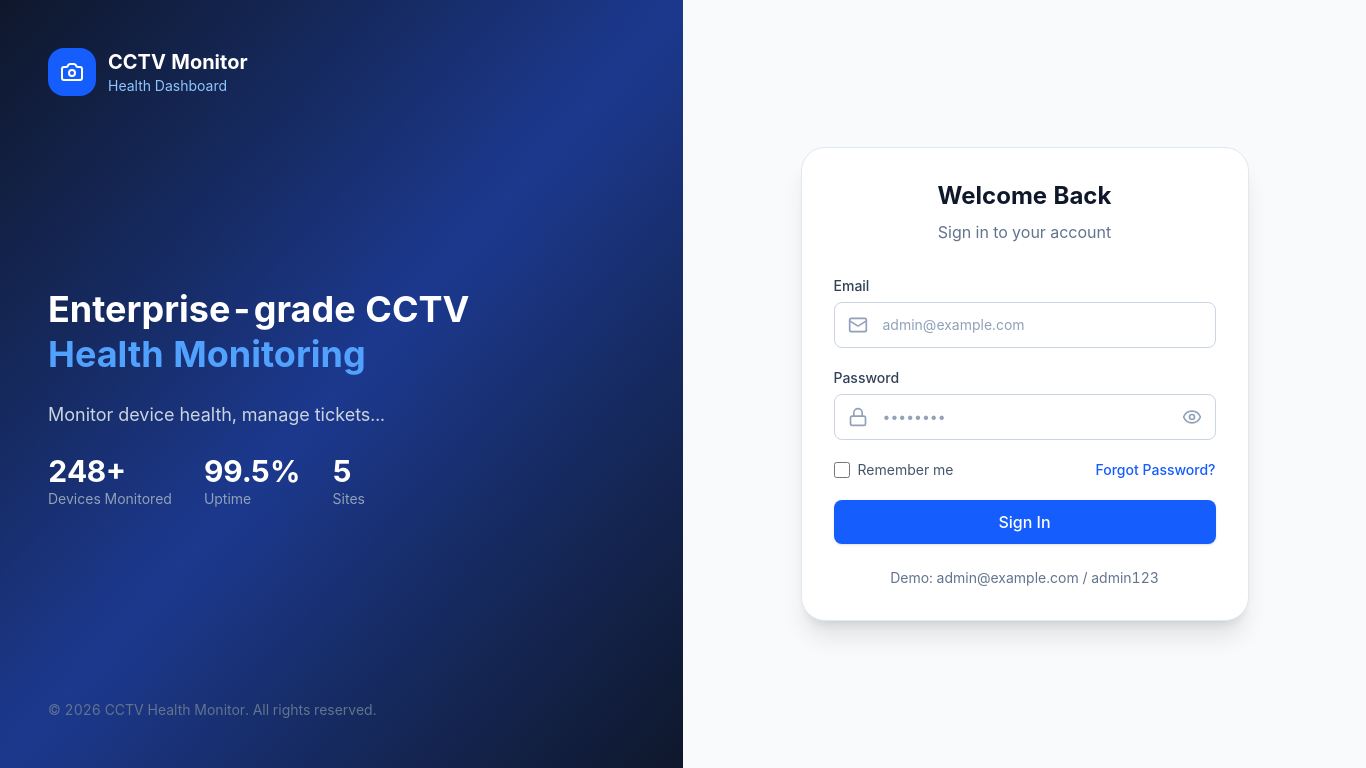
AuthFlow — Login Form › validates password with strong policy
Type "test@test.com" into the field with placeholder "admin@example.com" at x=1024, y=325, box x1=834 y1=302 x2=1216 y2=348
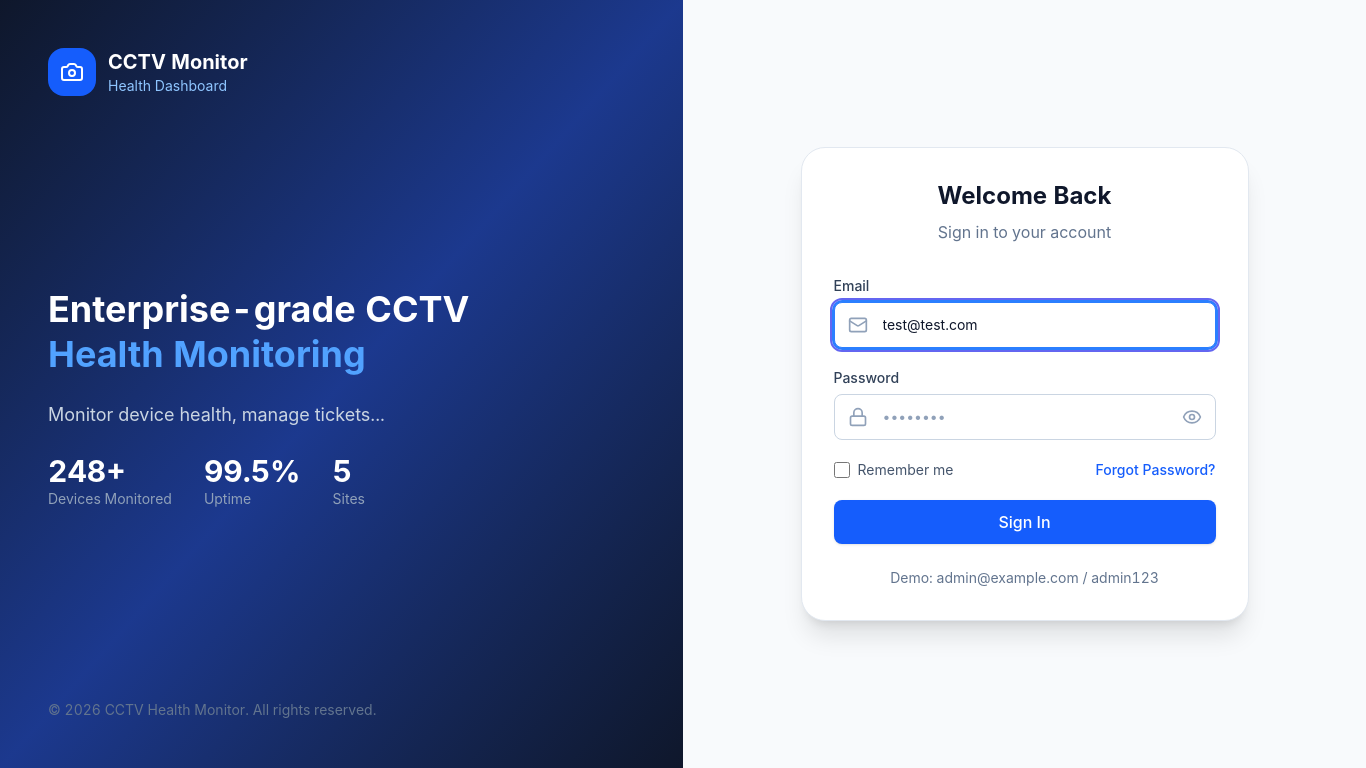
Type "short" into the password field with placeholder "••••••••" at x=1024, y=417, box x1=834 y1=394 x2=1216 y2=440
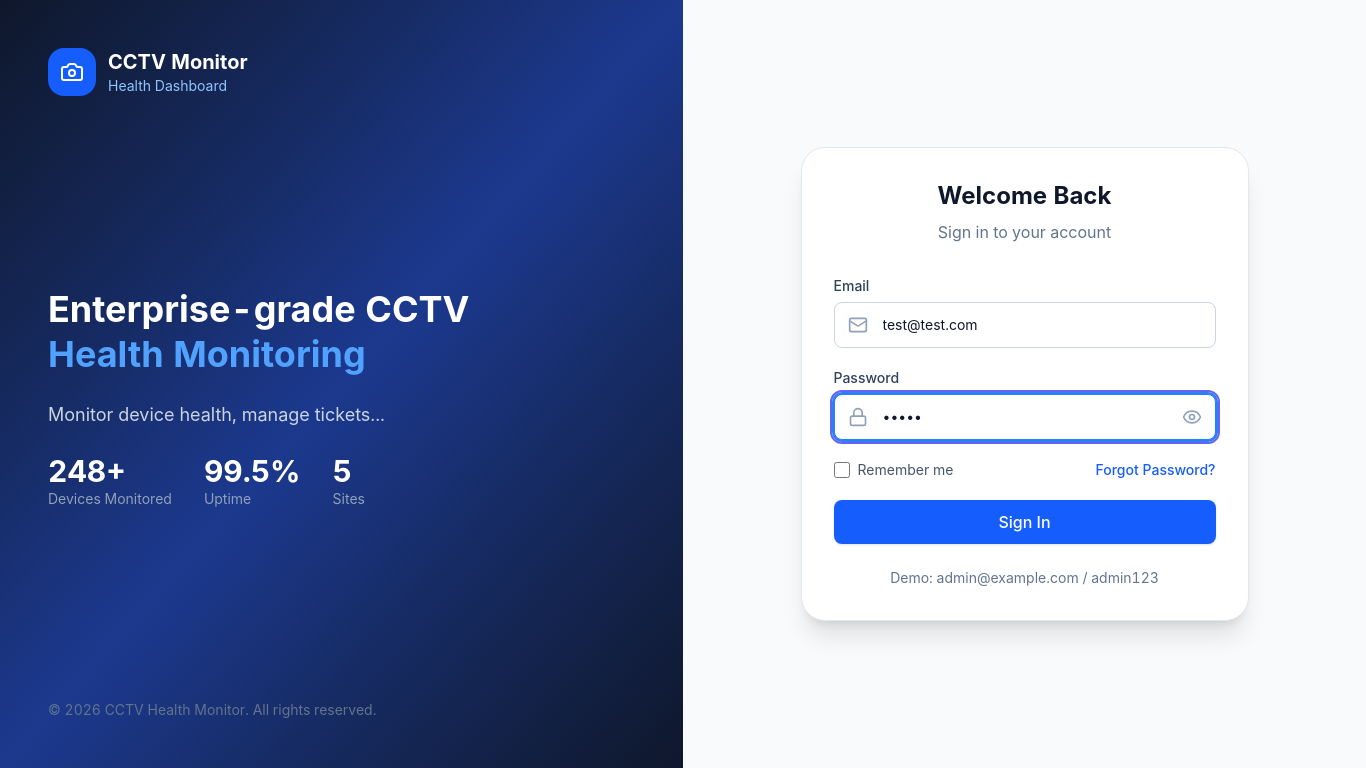
Click the button "Sign In" at x=1024, y=522, box x1=834 y1=500 x2=1216 y2=544
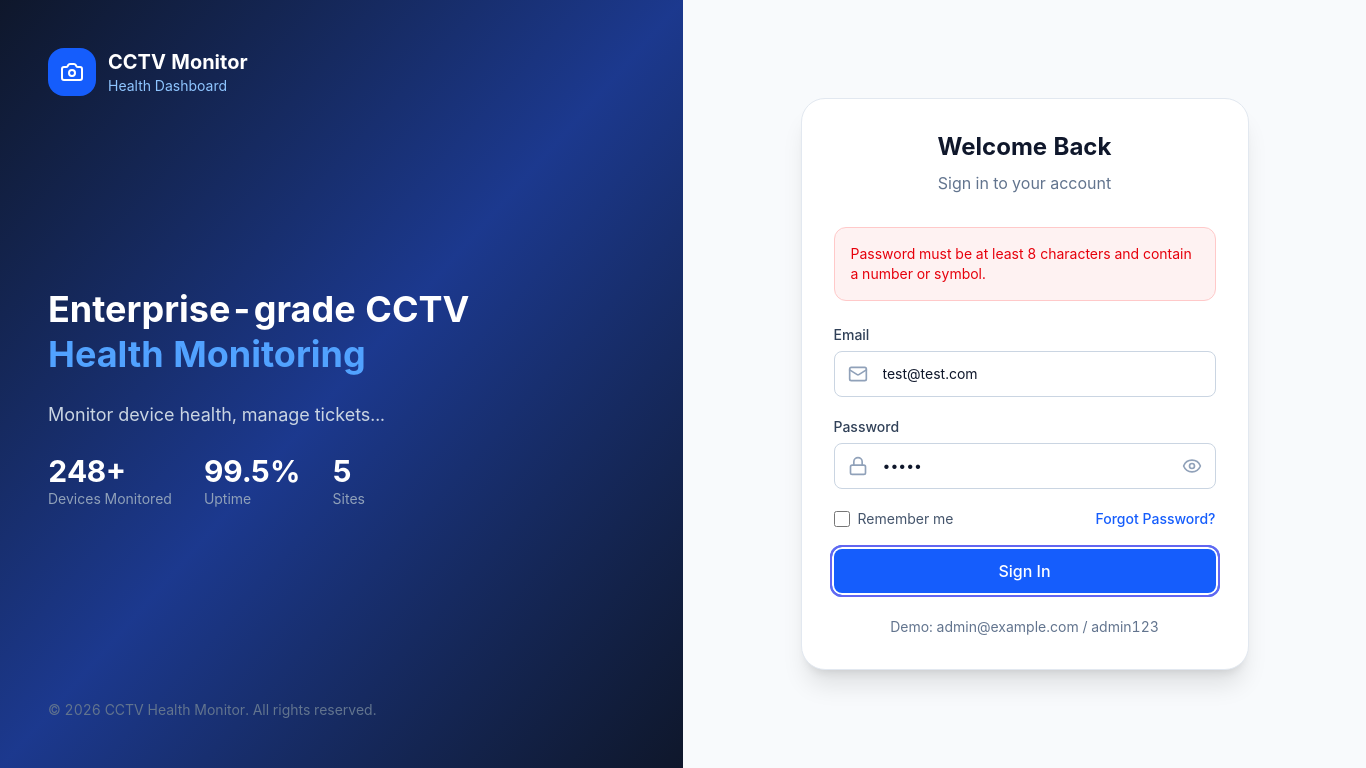
Check: the text "at least 8 characters" is shown, box x1=850 y1=245 x2=1192 y2=282
